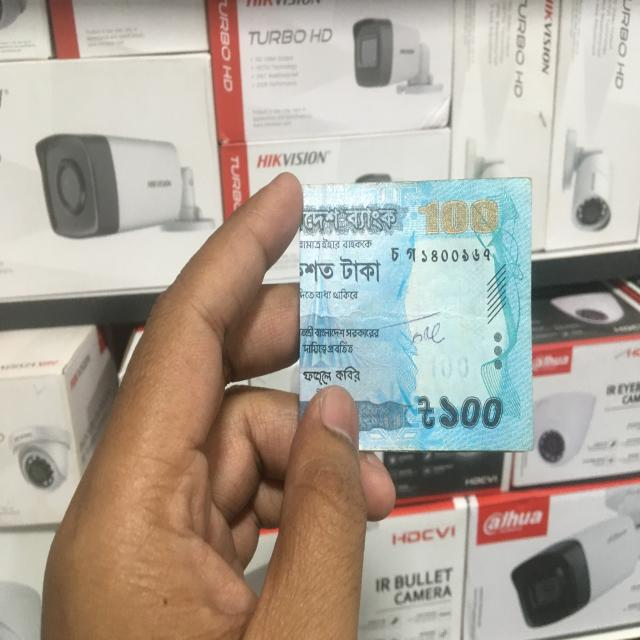Taka: (302, 184, 534, 446)
